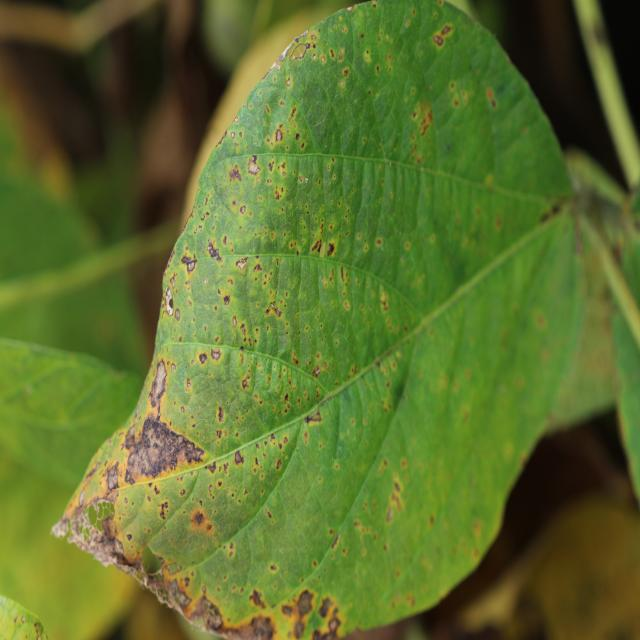Bacterial_Blight: (277, 585, 345, 640), (203, 448, 252, 500), (382, 474, 409, 527), (194, 345, 229, 378), (409, 99, 433, 144), (447, 78, 474, 112), (321, 229, 345, 265), (538, 197, 567, 224), (162, 280, 179, 322), (190, 507, 213, 533), (432, 23, 454, 47), (290, 41, 310, 61), (271, 123, 286, 147), (181, 253, 198, 273), (206, 240, 222, 261), (532, 308, 547, 330), (265, 301, 283, 319), (217, 287, 232, 305), (304, 410, 322, 424), (228, 166, 242, 182), (486, 87, 497, 106), (158, 501, 169, 520), (33, 621, 43, 638), (235, 257, 248, 270), (216, 132, 227, 147), (274, 186, 285, 201), (205, 461, 217, 474), (311, 239, 322, 253), (210, 348, 221, 361), (217, 406, 225, 422), (184, 376, 192, 391), (434, 35, 444, 47), (312, 365, 321, 377), (240, 323, 247, 338), (253, 262, 262, 272), (343, 68, 349, 78)
Soybean: (55, 0, 640, 640)
